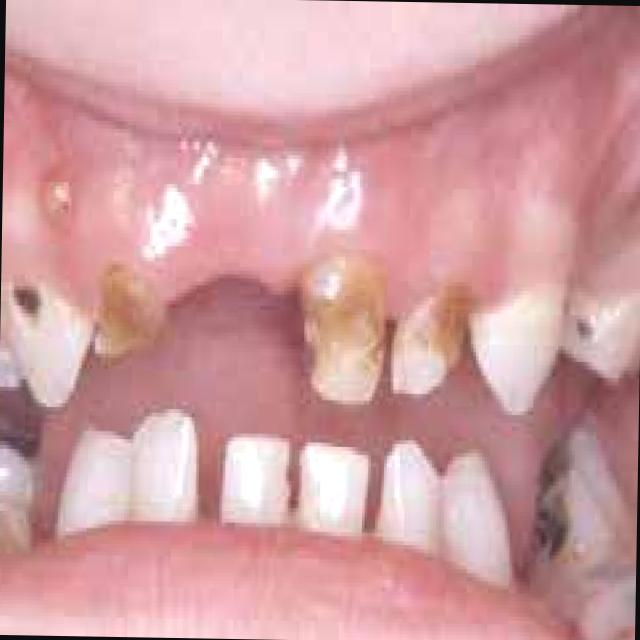caries: (294, 258, 388, 370), (84, 250, 168, 362), (519, 436, 583, 570), (421, 267, 478, 390)
